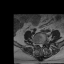CCS_stenosis: (40, 42, 41, 49)
LFS_normal: (43, 40, 45, 45)
LLS_stenosis: (41, 42, 43, 48)
RFS_stenosis: (36, 41, 38, 47)
RLS_stenosis: (38, 42, 40, 48)
